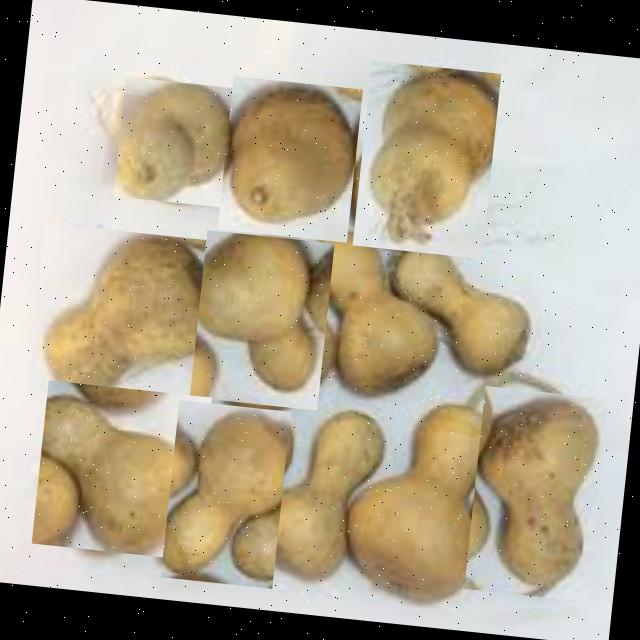Damaged potato: (26, 223, 228, 421), (31, 380, 211, 560), (345, 392, 495, 604), (464, 386, 608, 602), (352, 60, 501, 258), (300, 220, 451, 400), (189, 230, 334, 410), (382, 228, 545, 382), (160, 400, 290, 588), (217, 76, 362, 242), (262, 398, 381, 586), (113, 76, 235, 207)
